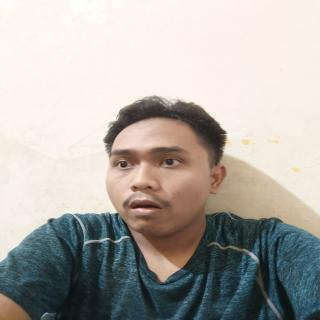Takut: (100, 114, 228, 240)
